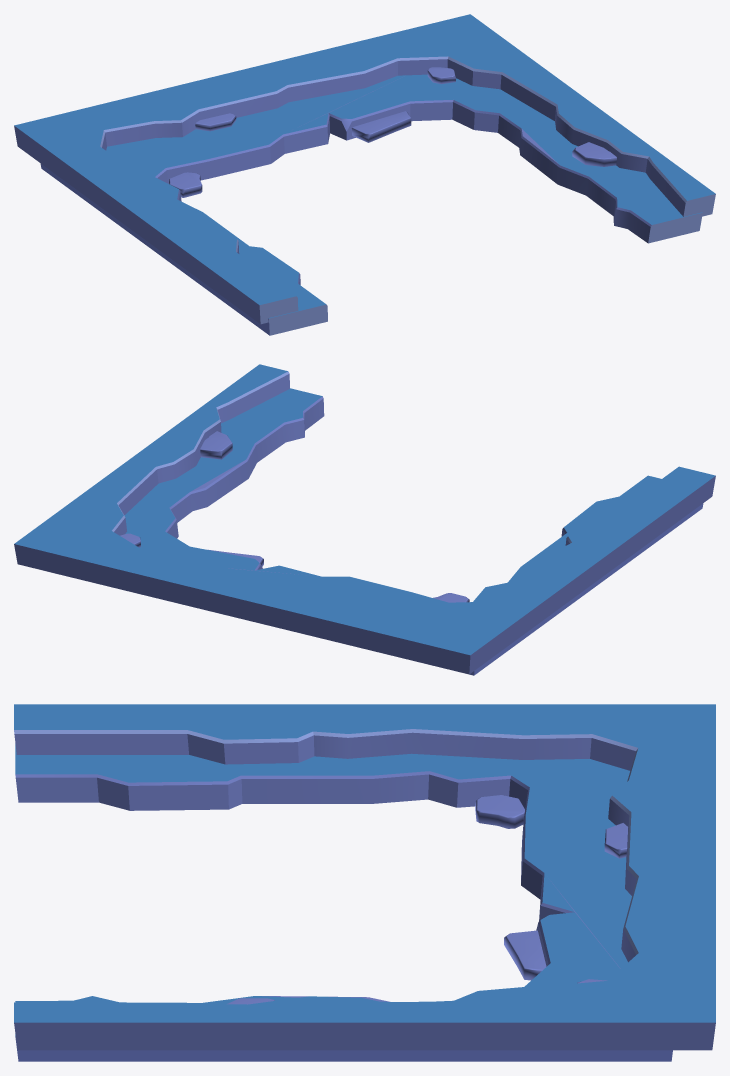
The model's file is Terrain.fbx.
3 renders of one model, top to bottom at view 1: azimuth 30°, elevation 25°; view 2: azimuth 150°, elevation 25°; view 3: azimuth 270°, elevation 25°, orthographic. The views are drawn at different scales.
Parts seen in each view (by area): view 1: polySurface902; view 2: polySurface902; view 3: polySurface902.
Boxes of the visible parts, left/top/right/bottom form: polySurface902: left=14, top=14, right=715, bottom=335; polySurface902: left=14, top=364, right=715, bottom=675; polySurface902: left=14, top=704, right=715, bottom=1061.
Size of the model in its own units: 18.39 by 1.33 by 17.14.
